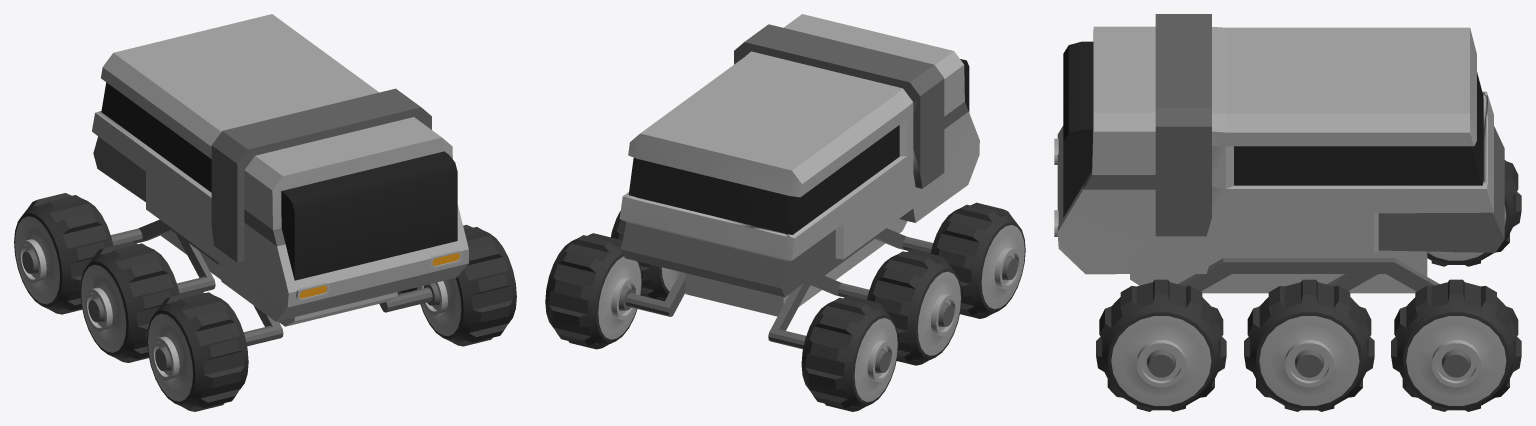
Rendered from robot.glb.
The picture shows the model from 3 angles, left to right: view 1: azimuth 30°, elevation 25°; view 2: azimuth 150°, elevation 25°; view 3: azimuth 270°, elevation 25°; orthographic projection. The views are drawn at different scales.
Parts seen in each view (by area): view 1: Rover_2, Wheel_2.002, Wheel_6, Wheel_2.001, Wheel_3.002; view 2: Rover_2, Wheel_2.001, Wheel_3.001, Wheel_2.002, Wheel_6, Wheel_1.001; view 3: Rover_2, Wheel_1.001, Wheel_3.002, Wheel_3.001, Wheel_2.001.
Boxes of the visible parts, left/top/right/bottom form: Rover_2: left=92, top=14, right=468, bottom=346; Wheel_2.002: left=147, top=290, right=248, bottom=411; Wheel_6: left=80, top=241, right=179, bottom=362; Wheel_2.001: left=14, top=193, right=113, bottom=314; Wheel_3.002: left=416, top=224, right=516, bottom=346; Rover_2: left=619, top=14, right=979, bottom=349; Wheel_2.001: left=801, top=295, right=898, bottom=411; Wheel_3.001: left=545, top=233, right=642, bottom=349; Wheel_2.002: left=930, top=202, right=1025, bottom=318; Wheel_6: left=867, top=249, right=961, bottom=365; Wheel_1.001: left=611, top=211, right=679, bottom=301; Rover_2: left=1054, top=14, right=1504, bottom=293; Wheel_1.001: left=1244, top=279, right=1374, bottom=411; Wheel_3.002: left=1096, top=279, right=1226, bottom=411; Wheel_3.001: left=1391, top=279, right=1521, bottom=411; Wheel_2.001: left=1427, top=160, right=1521, bottom=266.
Bounding box in the file's own units: 4.58 × 3.13 × 4.89.
Materials: 1 (1 with a texture image).
